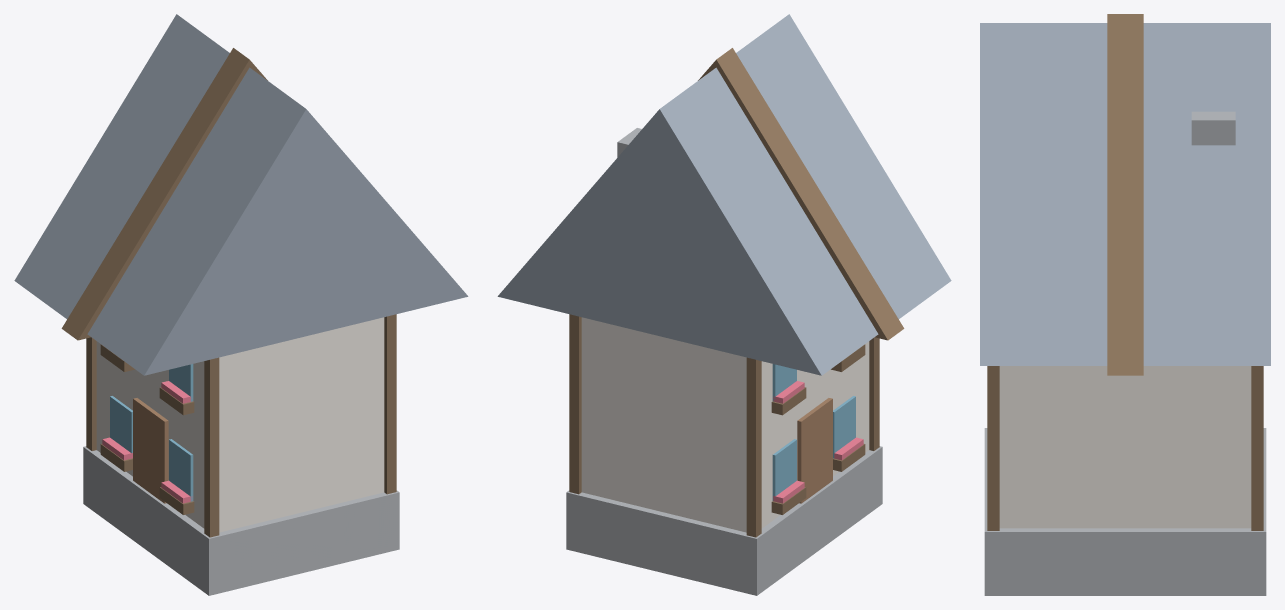
Rendered from house_slate.glb.
3 views of the same model, side by side, from view 1: azimuth 30°, elevation 25°; view 2: azimuth 150°, elevation 25°; view 3: azimuth 270°, elevation 25° (orthographic). The views are drawn at different scales.
Parts seen in each view (by area): view 1: Cylinder, HouseSlateBody, HouseSlateFoundation, Cylinder.001, Cube.004, Cube, Cube.002, Cube.001, Cube.005, Cube.011, Cube.008; view 2: Cylinder, HouseSlateBody, HouseSlateFoundation, Cylinder.001, Cube.004, Cube.001, Cube.003, Cube, Cube.011, Cube.005, Cube.014; view 3: Cylinder, HouseSlateBody, HouseSlateFoundation, Cylinder.001, Cube.002, Cube.003, Cube.017.
Part boxes in pixels (x1=…): Cylinder: x1=14, y1=14, x2=468, y2=375; HouseSlateBody: x1=96, y1=317, x2=384, y2=532; HouseSlateFoundation: x1=83, y1=446, x2=399, y2=595; Cylinder.001: x1=61, y1=48, x2=267, y2=340; Cube.004: x1=133, y1=398, x2=168, y2=503; Cube: x1=204, y1=357, x2=219, y2=537; Cube.002: x1=384, y1=314, x2=396, y2=494; Cube.001: x1=86, y1=337, x2=96, y2=450; Cube.005: x1=169, y1=439, x2=193, y2=501; Cube.011: x1=110, y1=396, x2=132, y2=453; Cube.008: x1=169, y1=364, x2=193, y2=401; Cylinder: x1=497, y1=14, x2=951, y2=375; HouseSlateBody: x1=581, y1=317, x2=869, y2=532; HouseSlateFoundation: x1=566, y1=446, x2=882, y2=595; Cylinder.001: x1=698, y1=48, x2=904, y2=340; Cube.004: x1=797, y1=398, x2=832, y2=503; Cube.001: x1=746, y1=357, x2=761, y2=537; Cube.003: x1=569, y1=314, x2=581, y2=494; Cube: x1=869, y1=337, x2=879, y2=450; Cube.011: x1=772, y1=439, x2=796, y2=500; Cube.005: x1=833, y1=396, x2=855, y2=458; Cube.014: x1=772, y1=364, x2=796, y2=401; Cylinder: x1=980, y1=23, x2=1270, y2=365; HouseSlateBody: x1=999, y1=366, x2=1251, y2=528; HouseSlateFoundation: x1=984, y1=428, x2=1266, y2=595; Cylinder.001: x1=1107, y1=14, x2=1143, y2=375; Cube.002: x1=987, y1=366, x2=999, y2=530; Cube.003: x1=1251, y1=366, x2=1263, y2=530; Cube.017: x1=1191, y1=111, x2=1235, y2=145.
Bounding box in the file's own units: 5.04 × 6.64 × 3.3.
